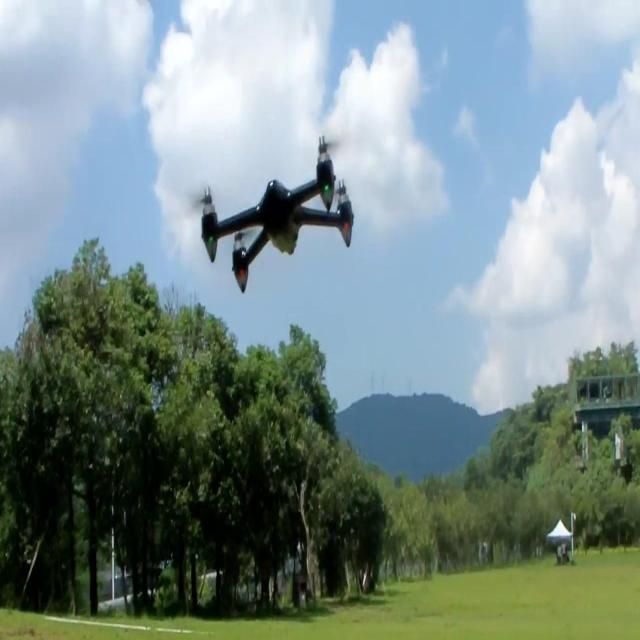drone: (200, 132, 356, 297)
